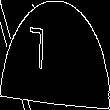L_S: (46, 29, 64, 81)
